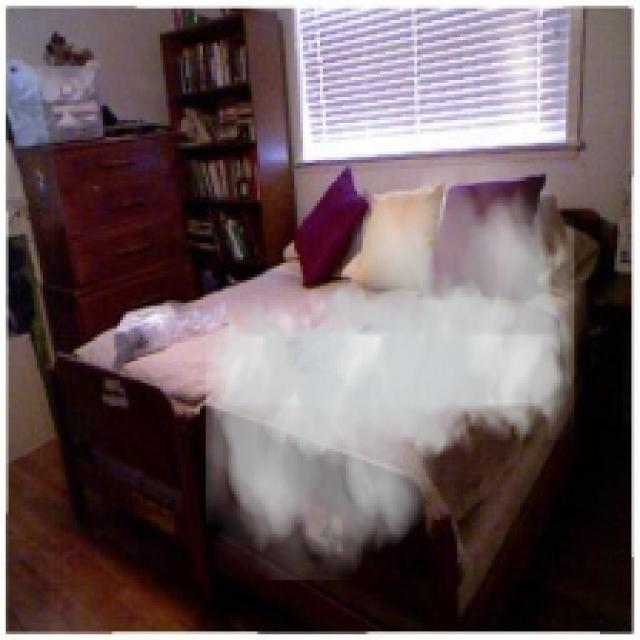smoke: (206, 160, 574, 580)
